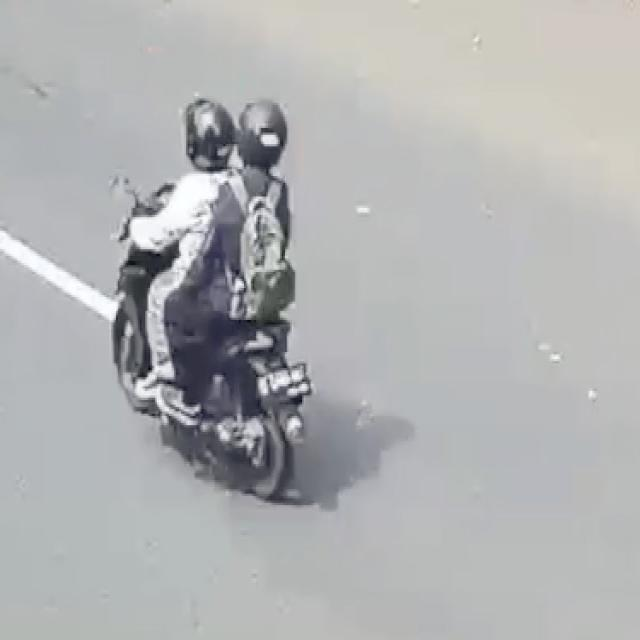helm: (178, 93, 241, 179), (236, 96, 292, 175)
motor: (100, 84, 322, 508)
spion: (109, 164, 150, 222)
